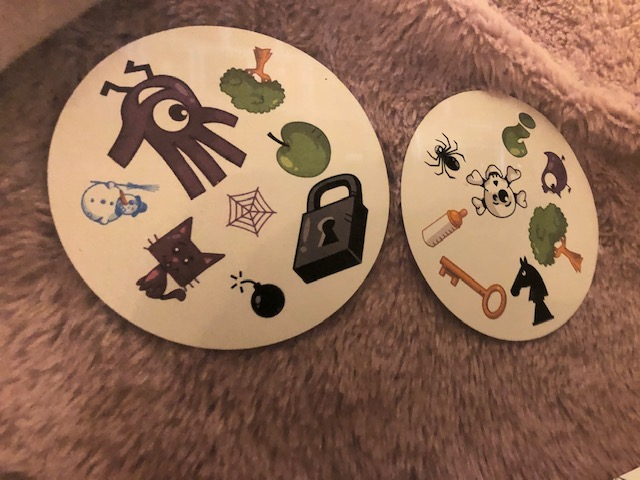araignee: (421, 129, 469, 184)
arbre: (217, 42, 286, 112), (525, 200, 586, 276)
biberon: (420, 204, 473, 254)
bombe: (227, 267, 290, 319)
bonhomme_neige: (79, 178, 161, 226)
cadenas: (289, 164, 368, 285)
chat: (129, 215, 227, 304)
cheval: (506, 254, 557, 324)
cle: (436, 252, 508, 318)
dooble: (101, 58, 247, 195)
oiseau: (536, 149, 577, 198)
point_interrogation: (497, 108, 542, 160)
pomme: (263, 119, 333, 181)
tete_mort: (465, 157, 532, 219)
toile: (221, 182, 279, 240)
